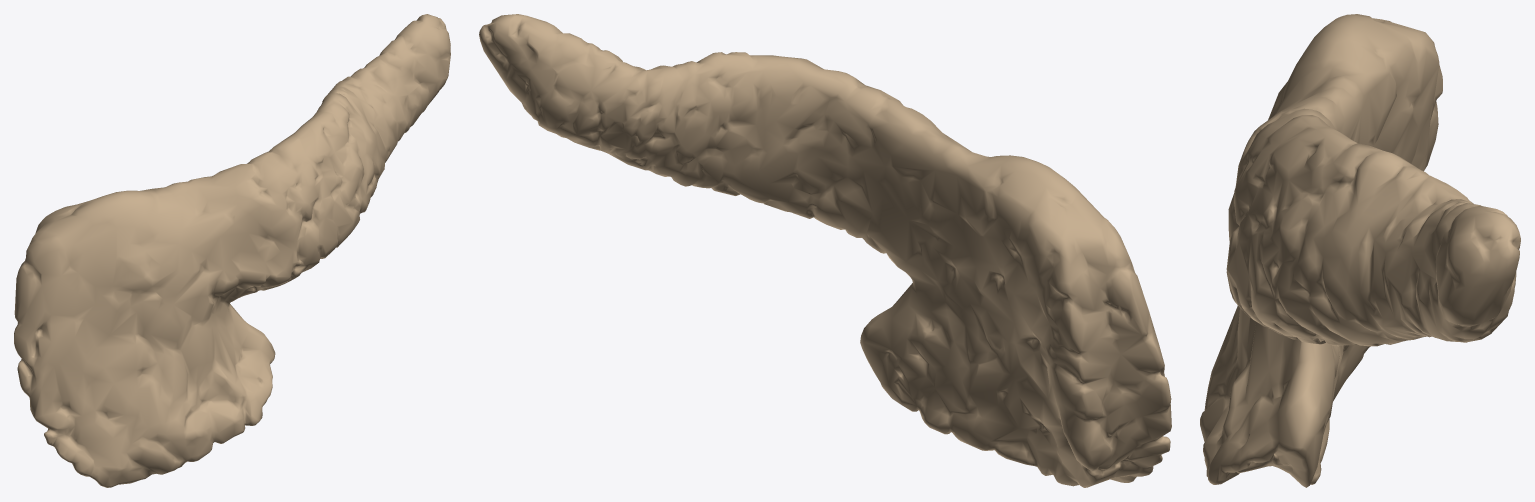
Rendered from pancreas.glb.
3 renders of one model, left to right at view 1: azimuth 30°, elevation 25°; view 2: azimuth 150°, elevation 25°; view 3: azimuth 270°, elevation 25°, orthographic. The views are drawn at different scales.
Visible parts, largest first — view 1: FMA7198nsn.stl; view 2: FMA7198nsn.stl; view 3: FMA7198nsn.stl.
Part boxes in pixels (x1,y1,x2,y2): FMA7198nsn.stl: (14,14,450,487); FMA7198nsn.stl: (479,14,1171,487); FMA7198nsn.stl: (1200,14,1520,487).
Size of the model in its own units: 2 by 1.28 by 0.6926.
